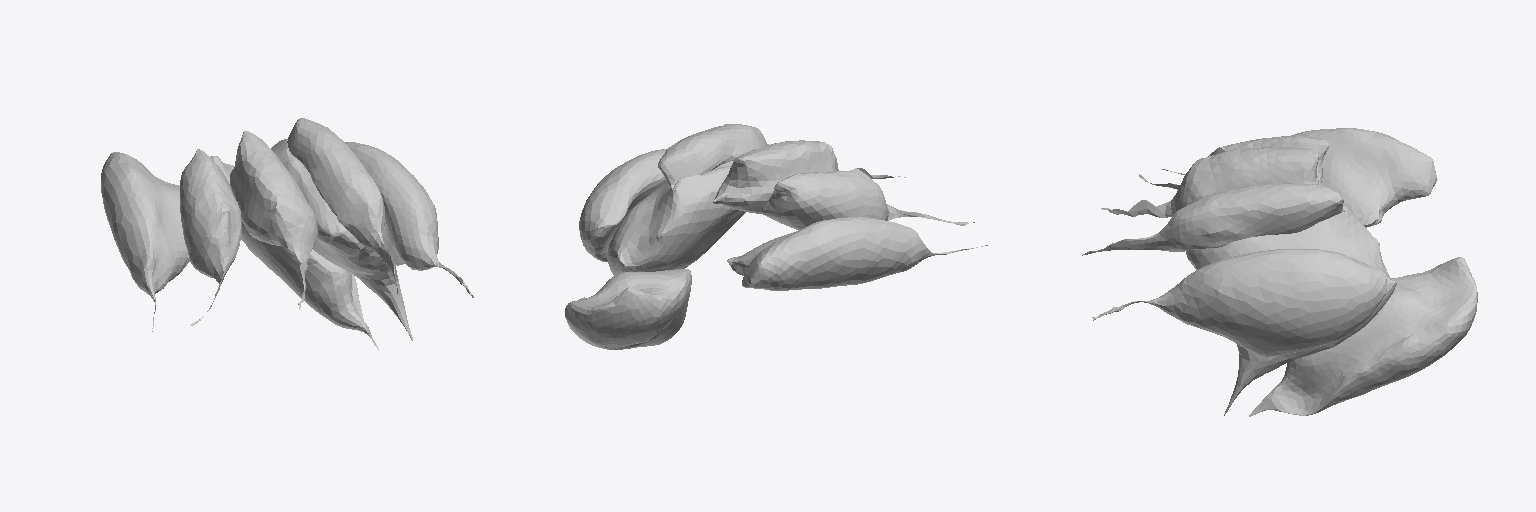
Rendered from rand_8_muscle.obj.
3 renders of one model, left to right at view 1: azimuth 30°, elevation 25°; view 2: azimuth 150°, elevation 25°; view 3: azimuth 270°, elevation 25°, orthographic.
Bounding box in the file's own units: 80.41 × 51.6 × 84.43.